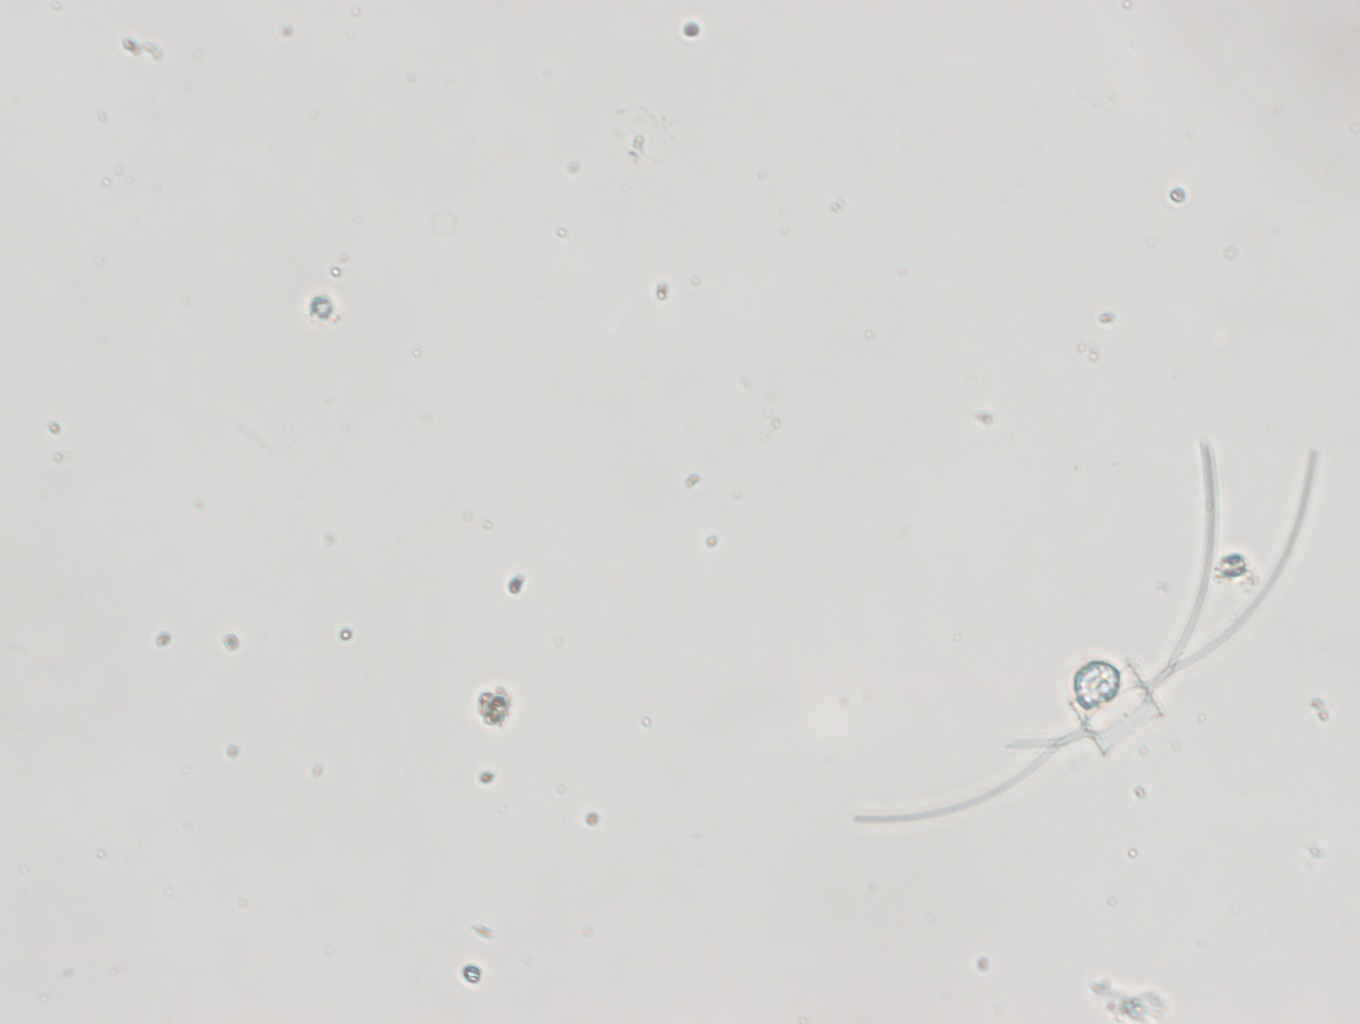chaetoceros: (836, 442, 1329, 836)
